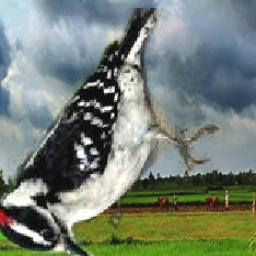Woodpecker: (0, 9, 223, 256)
